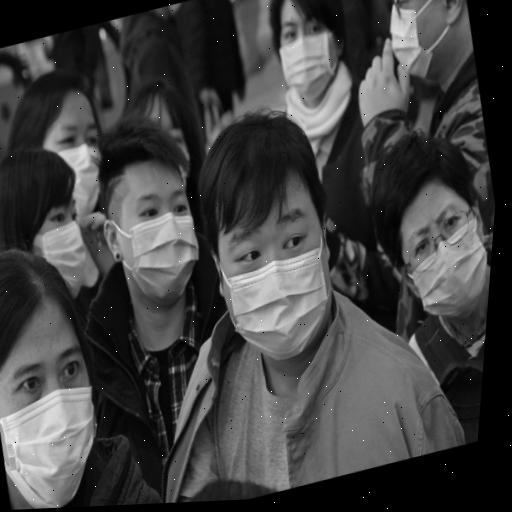mask: (167, 93, 369, 386), (0, 227, 139, 512), (71, 105, 222, 331), (351, 116, 502, 341), (0, 60, 125, 240), (0, 140, 110, 322), (249, 0, 363, 111), (366, 0, 481, 97)
